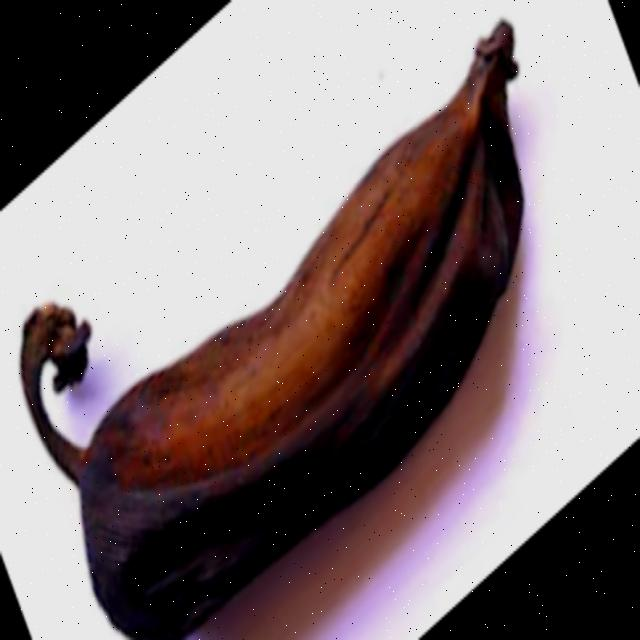Rotten: (10, 0, 550, 640)
